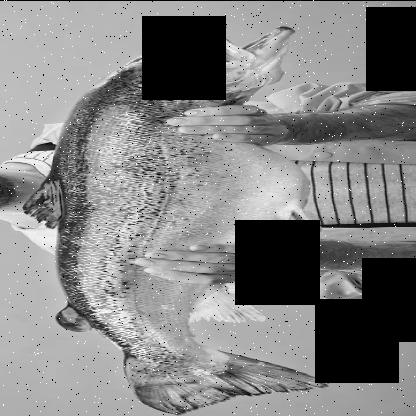fish: (21, 22, 325, 412)
